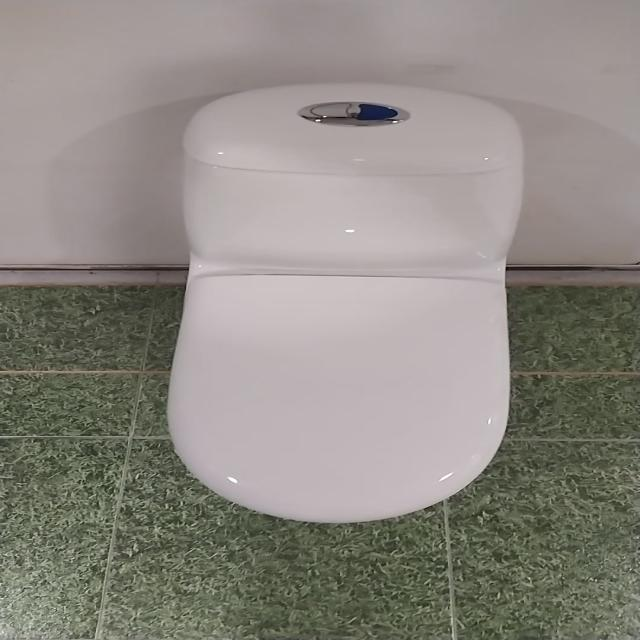toilet: (165, 81, 525, 524)
